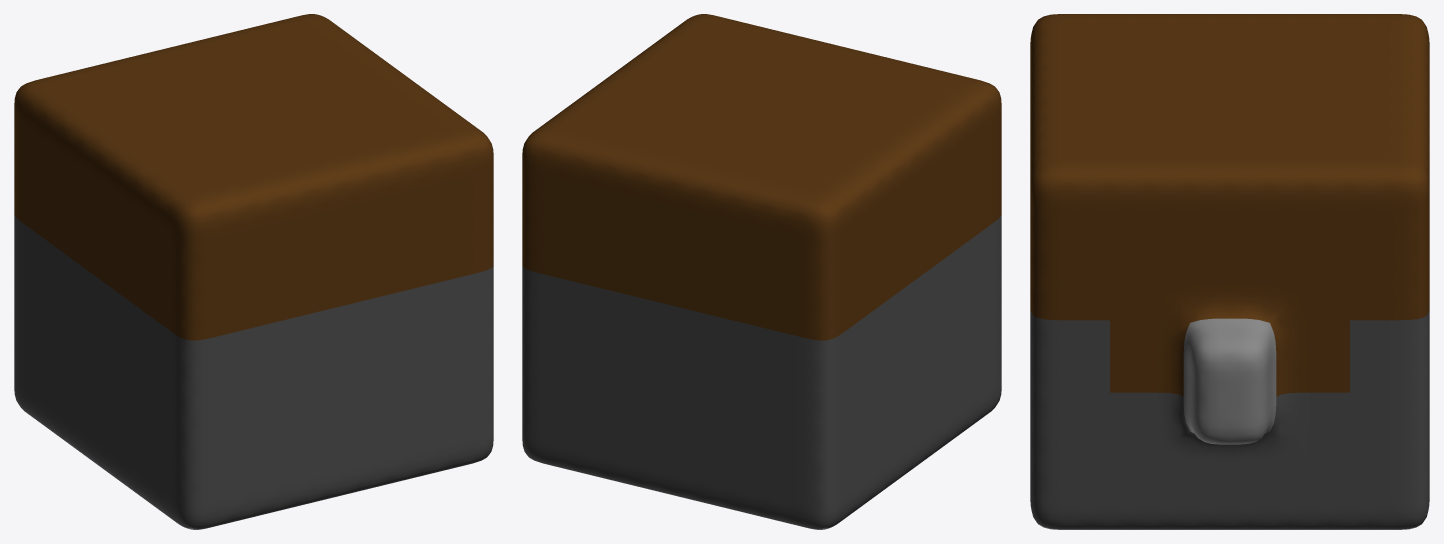
Rendered from chest.fbx.
The picture shows the model from 3 angles, left to right: view 1: azimuth 30°, elevation 25°; view 2: azimuth 150°, elevation 25°; view 3: azimuth 270°, elevation 25°; orthographic projection. The views are drawn at different scales.
Visible parts, largest first — view 1: Cube_1; view 2: Cube_1; view 3: Cube_1.
Part boxes in pixels (box(x1,y1,x2,y2)): Cube_1: box(14, 14, 493, 529); Cube_1: box(522, 14, 1001, 529); Cube_1: box(1030, 14, 1429, 529).
Size of the model in its own units: 230 by 200 by 200.
